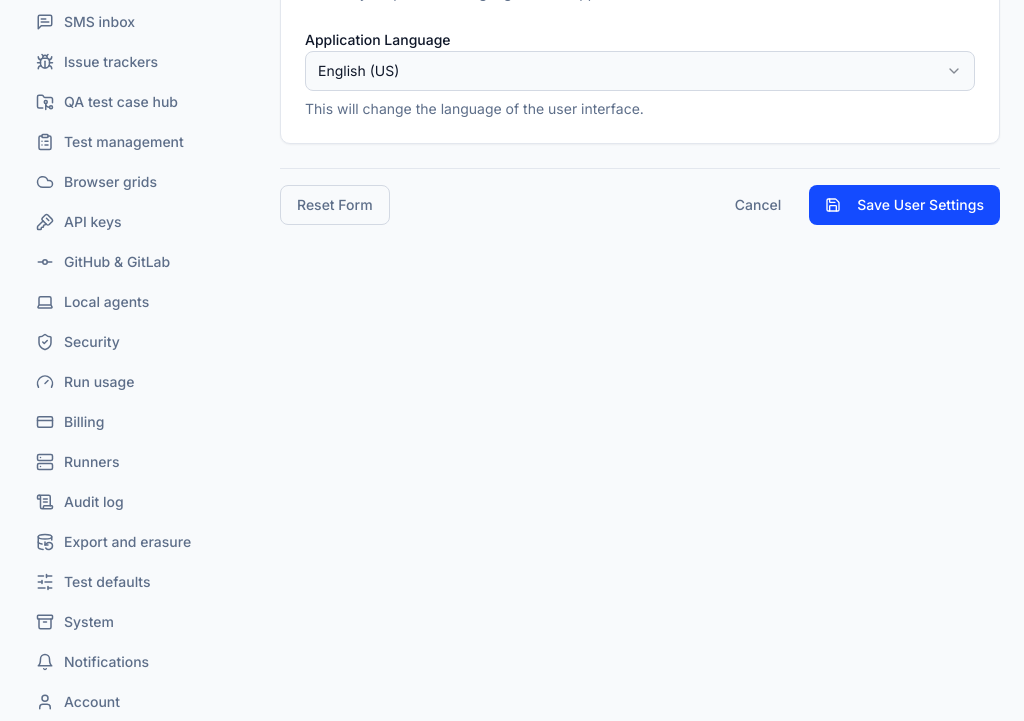
SettingsPage - System › shows the log settings read-only to anyone else, and says why
(page scrolled)
Click the button "System" at (136, 622), box x1=24 y1=604 x2=248 y2=640
(page scrolled)
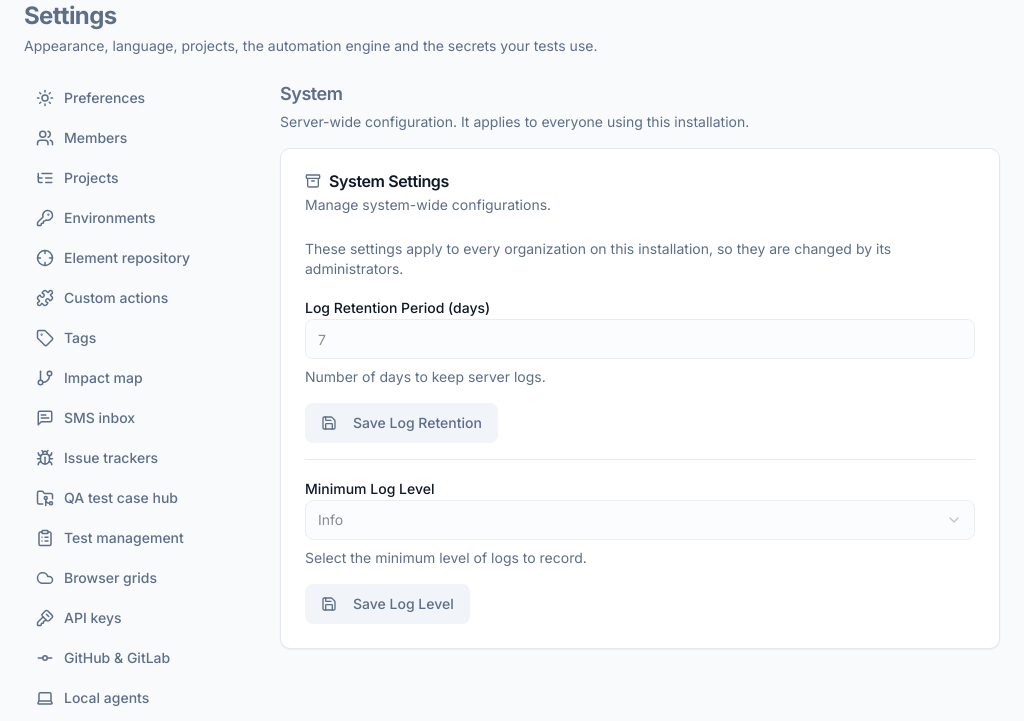
Expected: the number field labelled "Log Retention Period (days)" is disabled, x1=305 y1=319 x2=975 y2=359
Expected: the text with test id "system-read-only" is shown, x1=305 y1=239 x2=975 y2=279
